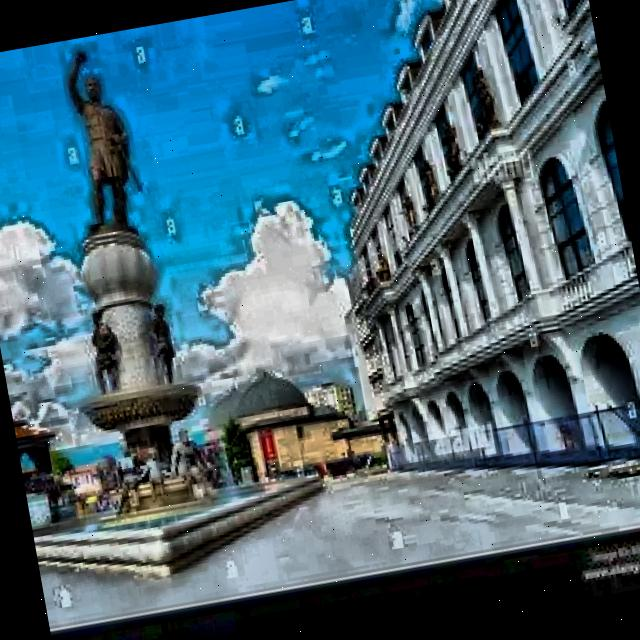Philip II of Macedonia: (11, 35, 228, 532)
